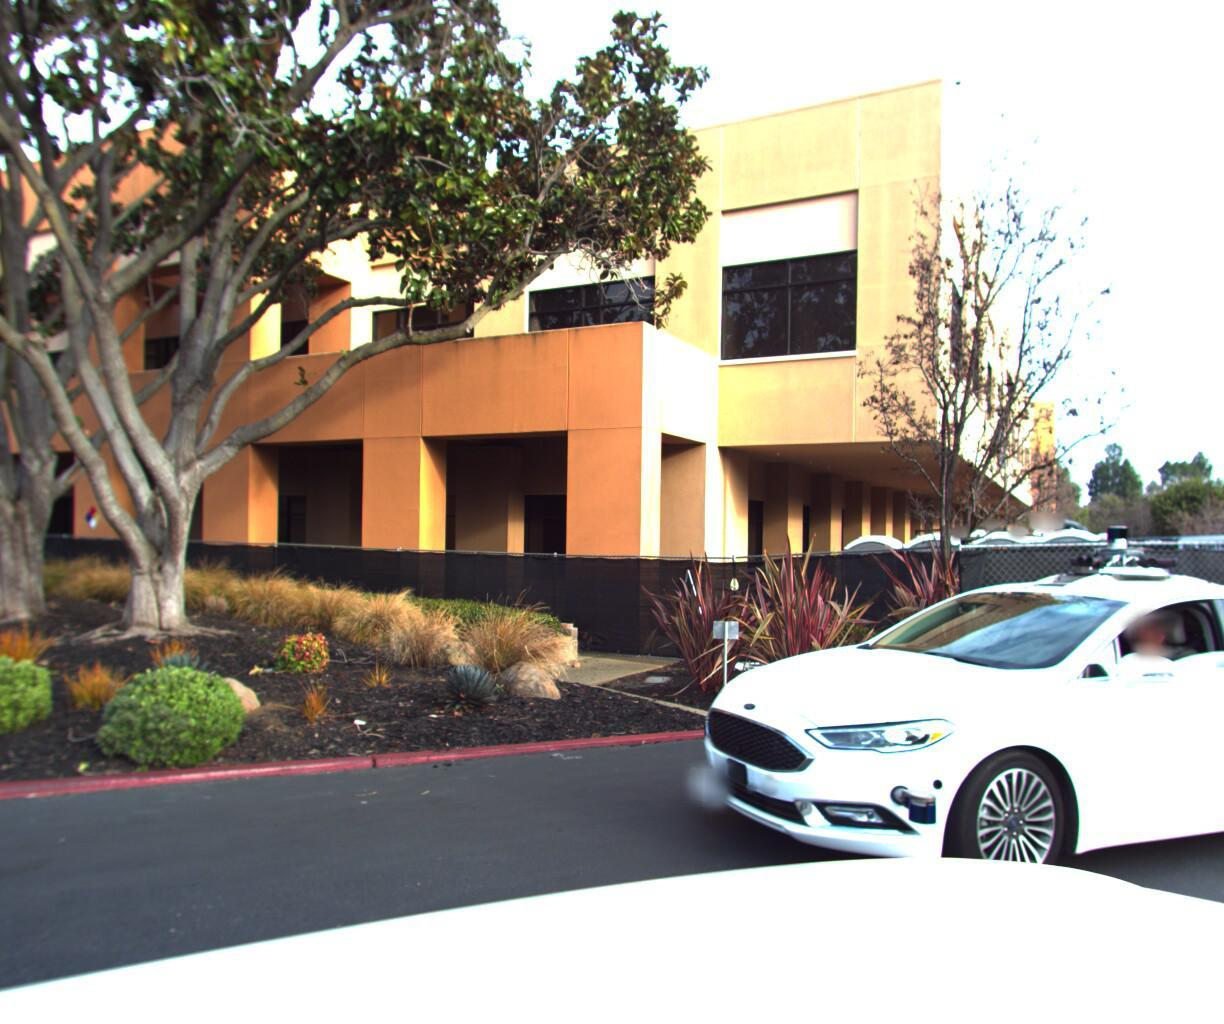car: (645, 491, 1224, 931)
